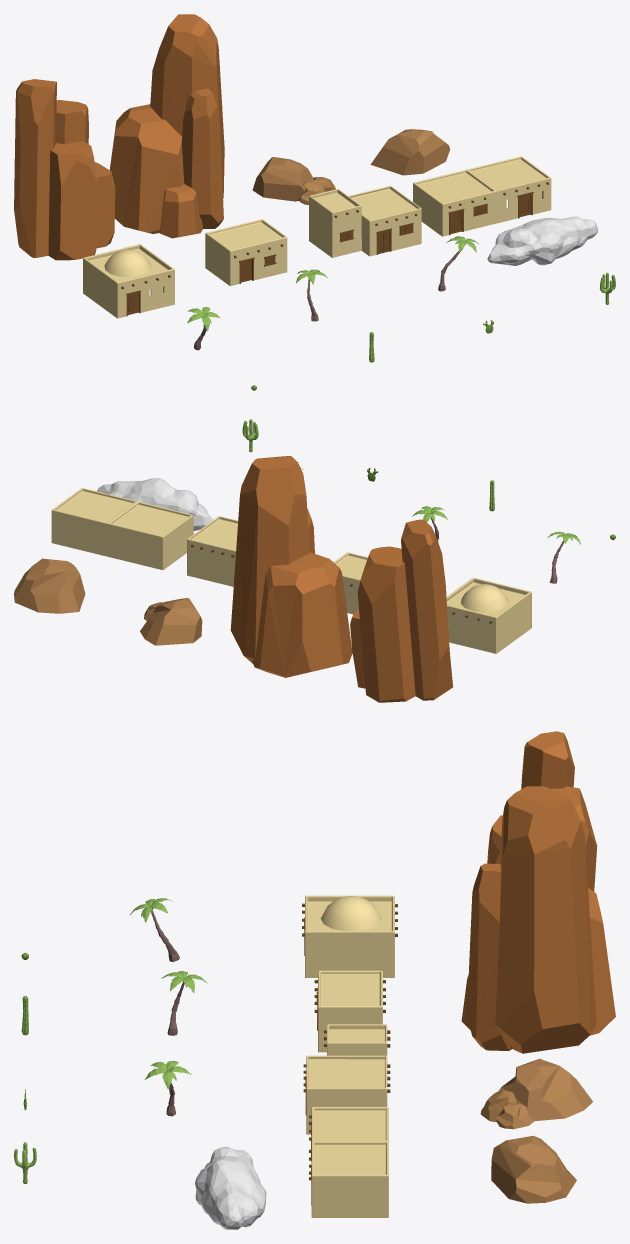
File: LowPoly_Arab_Houses.glb
The picture shows the model from 3 angles, top to bottom: view 1: azimuth 30°, elevation 25°; view 2: azimuth 150°, elevation 25°; view 3: azimuth 270°, elevation 25°; orthographic projection. The views are drawn at different scales.
Parts seen in each view (by area): view 1: crystal_16.009, crystal_9.010, house1.003, house1.002, house6.002, house9.002, cloud_4.008, rock_2.007, rock_1.001; view 2: crystal_16.009, crystal_9.010, house1.003, house6.002, rock_2.007, house1.002, rock_1.001, cloud_4.008, house9.002; view 3: crystal_16.009, house1.003, house6.002, house1.002, rock_1.001, cloud_4.008, crystal_9.010, rock_2.007, house9.002, Palm_tree_1.007, Palm_tree_2.010, Palm_tree_2.002.
Part boxes in pixels (left/top/right/bottom): crystal_16.009: left=109, top=14, right=224, bottom=238; crystal_9.010: left=14, top=79, right=115, bottom=260; house1.003: left=413, top=156, right=551, bottom=236; house1.002: left=309, top=186, right=421, bottom=257; house6.002: left=83, top=244, right=174, bottom=318; house9.002: left=205, top=219, right=287, bottom=285; cloud_4.008: left=487, top=216, right=598, bottom=265; rock_2.007: left=370, top=129, right=449, bottom=175; rock_1.001: left=252, top=157, right=335, bottom=204; crystal_16.009: left=230, top=456, right=352, bottom=677; crystal_9.010: left=350, top=519, right=452, bottom=702; house1.003: left=51, top=488, right=193, bottom=569; house6.002: left=446, top=577, right=531, bottom=653; rock_2.007: left=14, top=558, right=85, bottom=613; house1.002: left=187, top=516, right=238, bottom=586; rock_1.001: left=140, top=598, right=202, bottom=645; cloud_4.008: left=97, top=478, right=212, bottom=530; house9.002: left=334, top=552, right=367, bottom=614; crystal_16.009: left=461, top=786, right=615, bottom=1053; house1.003: left=309, top=1107, right=388, bottom=1217; house6.002: left=302, top=895, right=397, bottom=977; house1.002: left=303, top=1024, right=390, bottom=1134; rock_1.001: left=480, top=1058, right=592, bottom=1129; cloud_4.008: left=195, top=1146, right=266, bottom=1229; crystal_9.010: left=487, top=731, right=597, bottom=891; rock_2.007: left=491, top=1135, right=576, bottom=1203; house9.002: left=314, top=970, right=385, bottom=1052; Palm_tree_1.007: left=144, top=1060, right=191, bottom=1116; Palm_tree_2.010: left=161, top=971, right=207, bottom=1035; Palm_tree_2.002: left=130, top=898, right=179, bottom=961.
Size of the model in its own units: 46.84 by 20.02 by 40.96.
